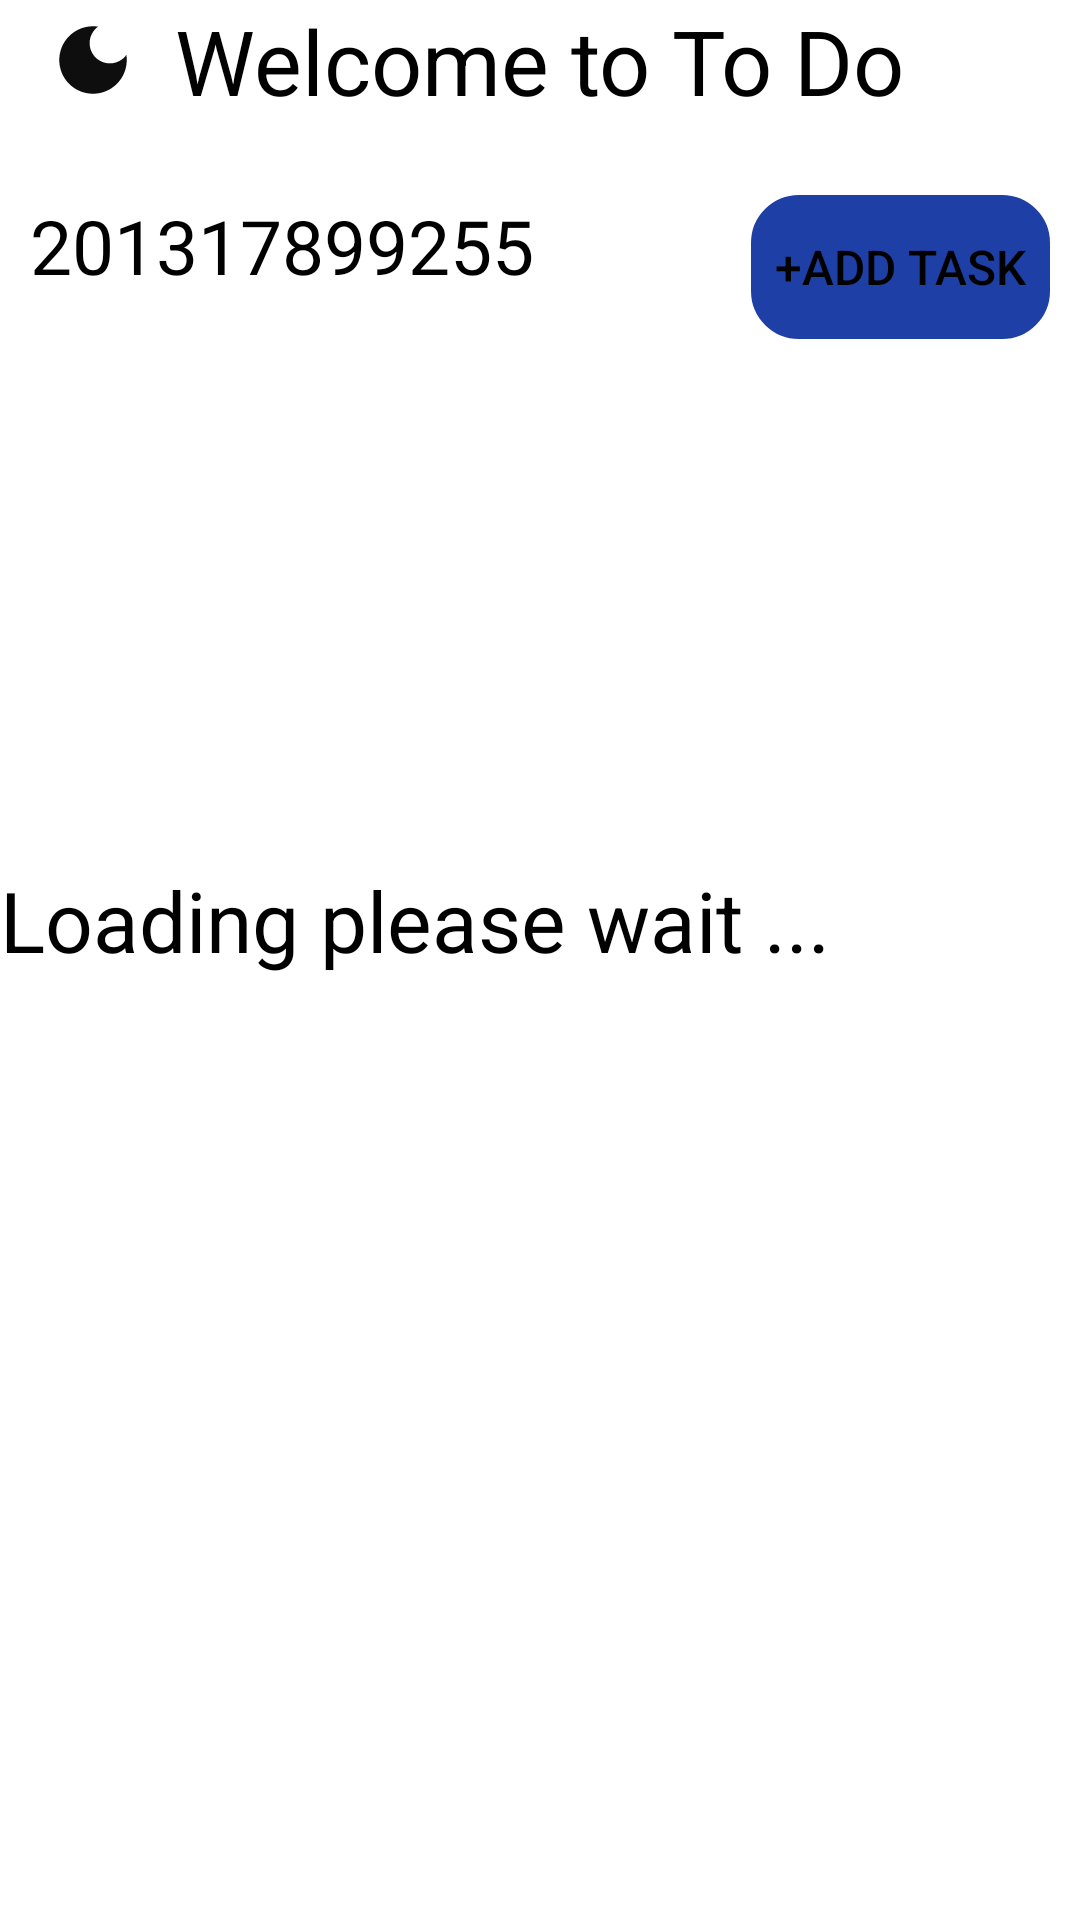

Screen size 1080 × 1920. Icon name, then its box in pixels as (x1, y1, x2, y2):
mode: (59, 26, 127, 94)
